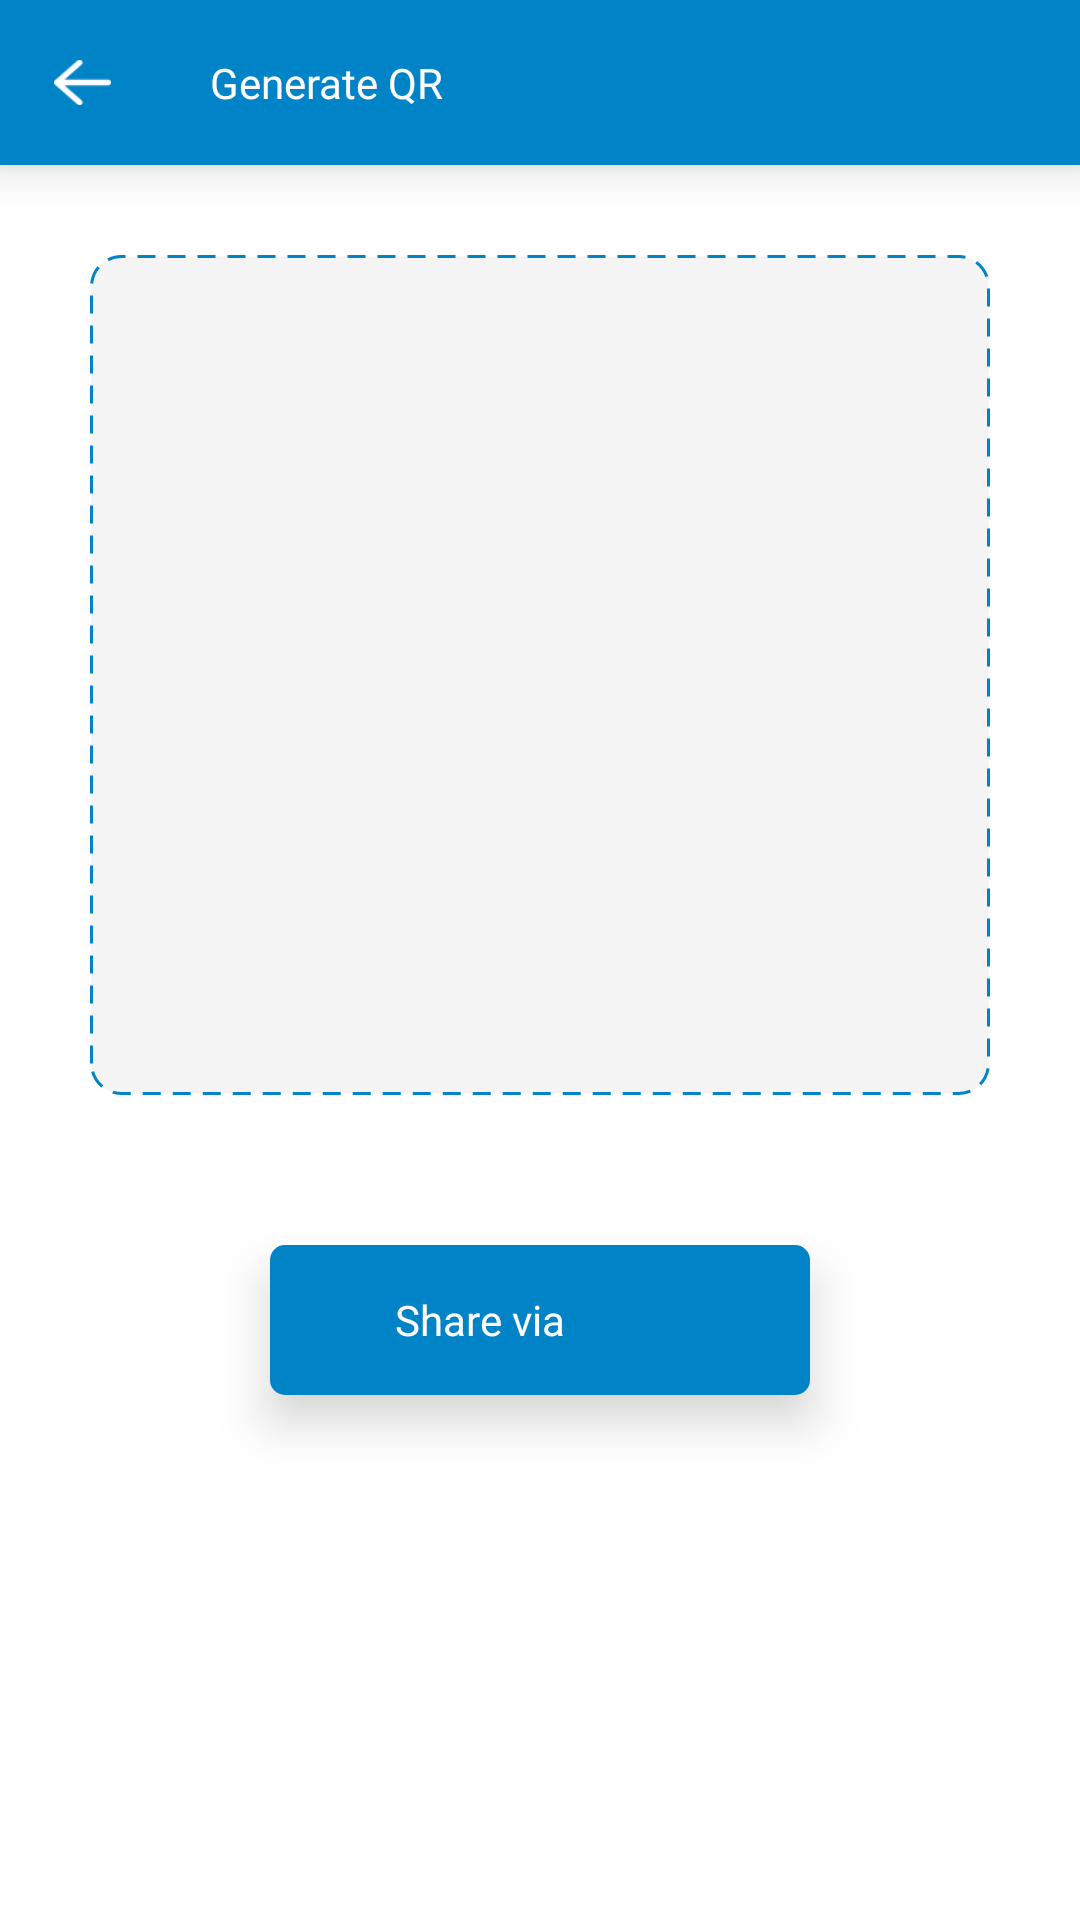

Locate icon controls on the screen. Image size 1080 x 1920, boxes as rect(x1, y1, x2, y2).
back arrow: rect(54, 60, 111, 105)
